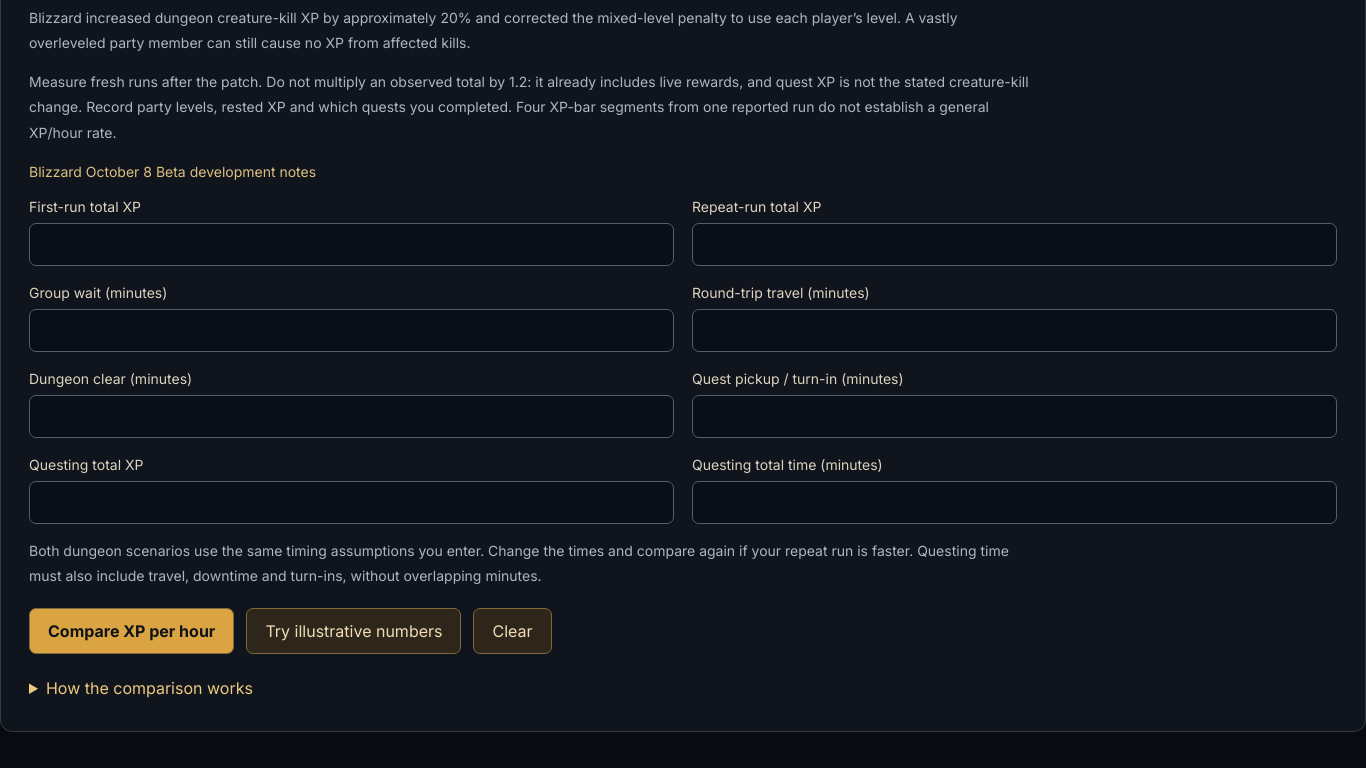
starts without invented results and clears stale calculations on input changes
(page scrolled)
Expected: the number field labelled "First-run total XP" is empty, [29, 223, 674, 266]
Click the button "Try illustrative numbers": click(354, 631) [246, 608, 462, 654]
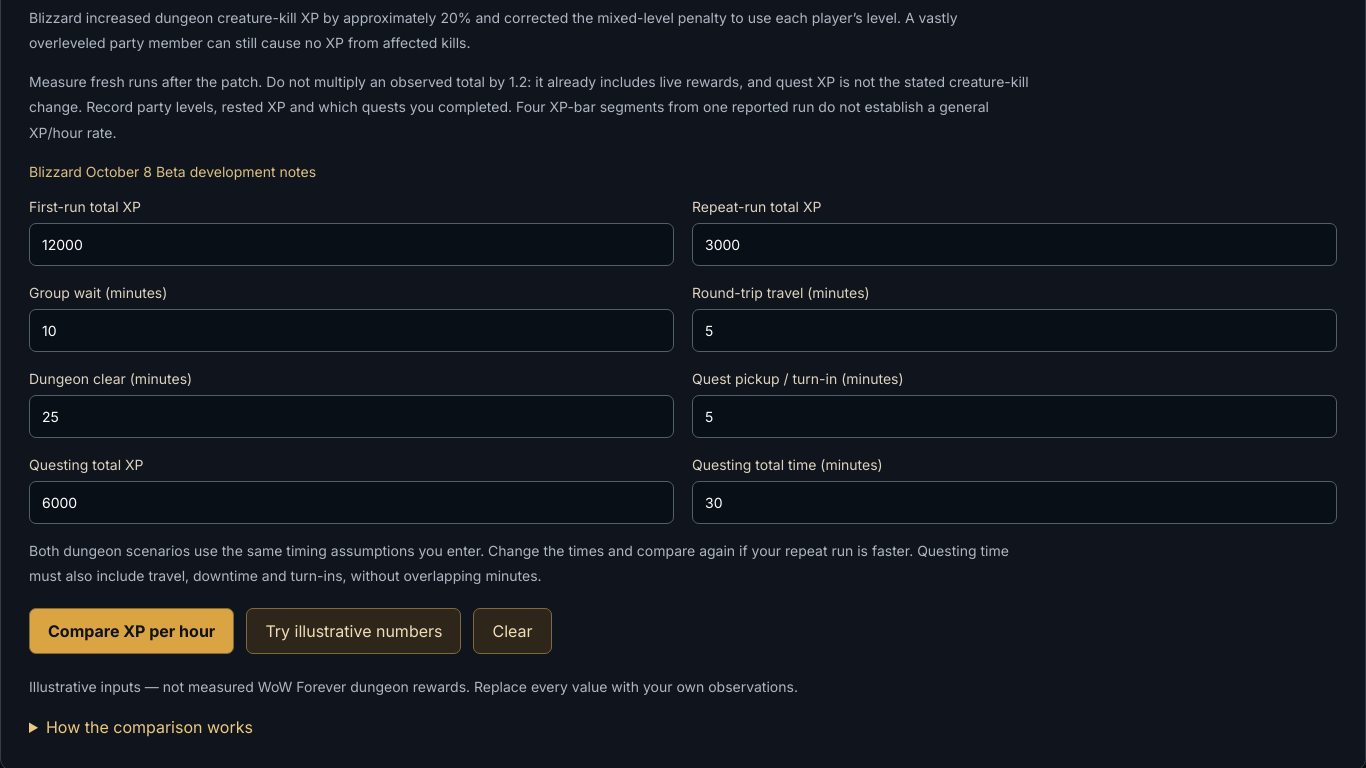
Click the button "Compare XP per hour": click(132, 631) [29, 608, 234, 654]
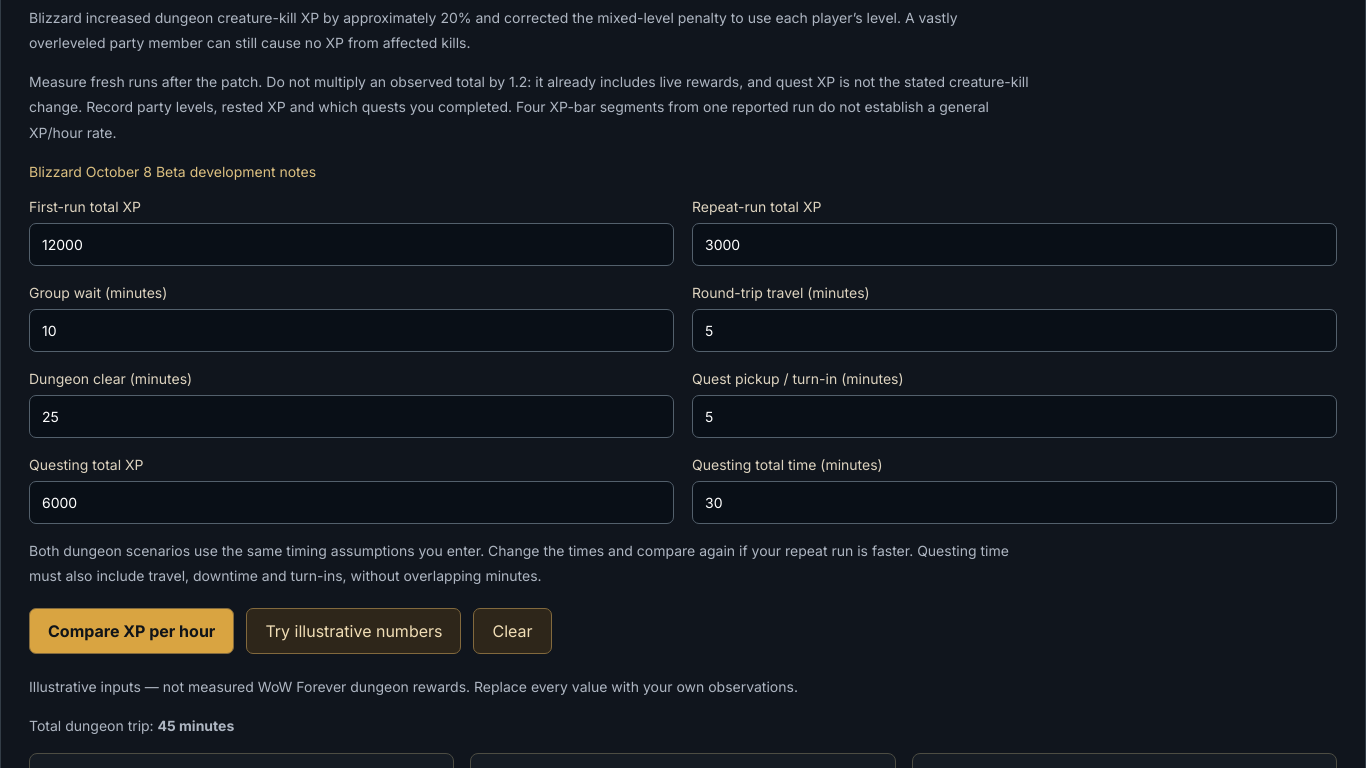
Result: the text "Illustrative inputs" is shown at [29, 678, 798, 695]
Replace the text in the number field labelled "Group wait (minutes)" with "20": (352, 330) [29, 309, 674, 352]
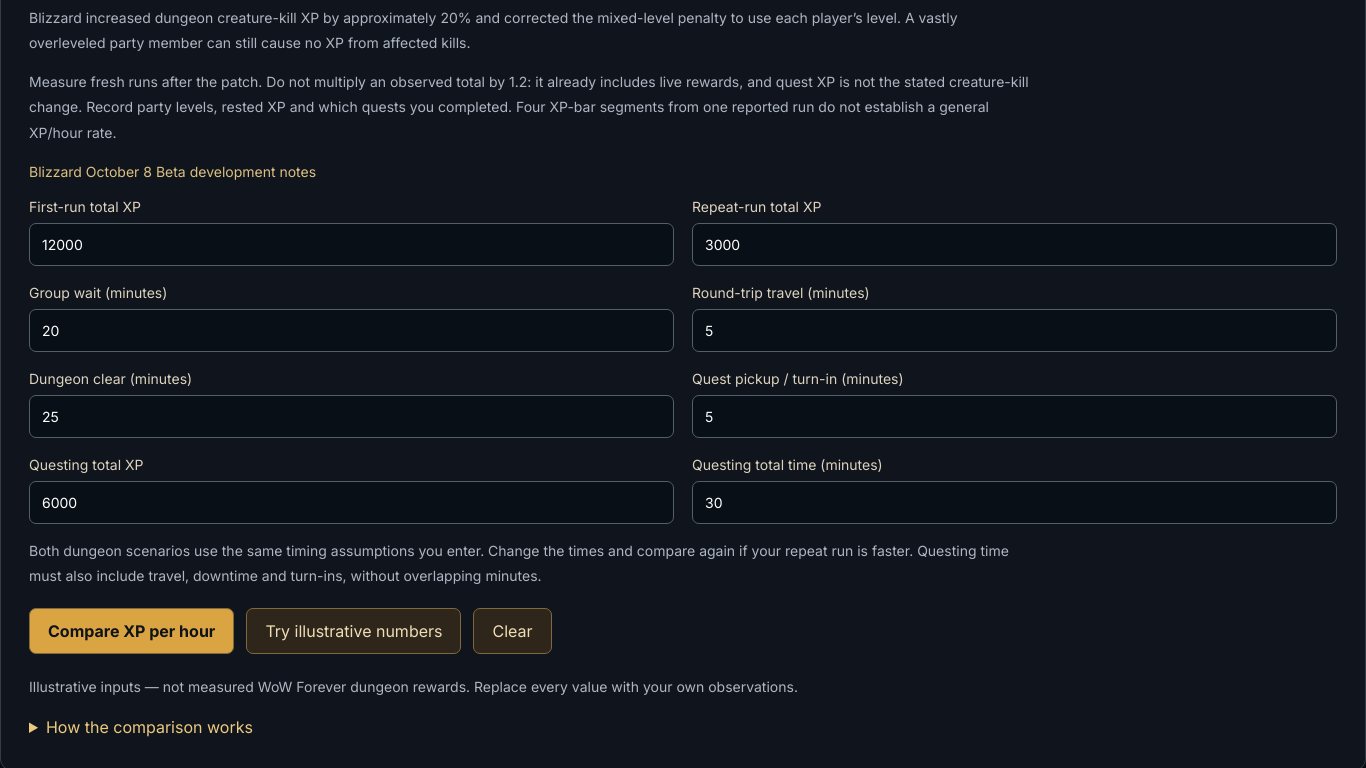
Click the button "Clear": click(513, 631) [474, 608, 552, 654]
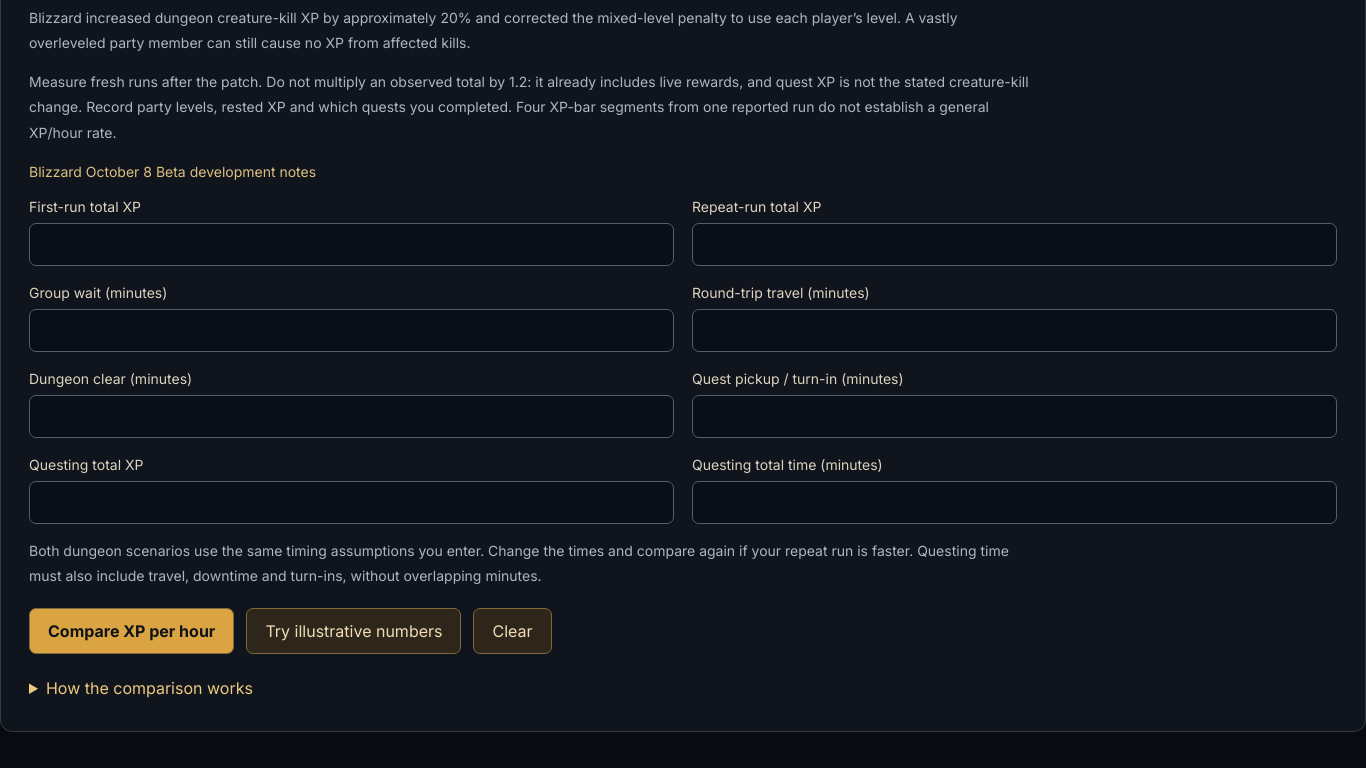
Result: the number field labelled "First-run total XP" is empty at [29, 223, 674, 266]
